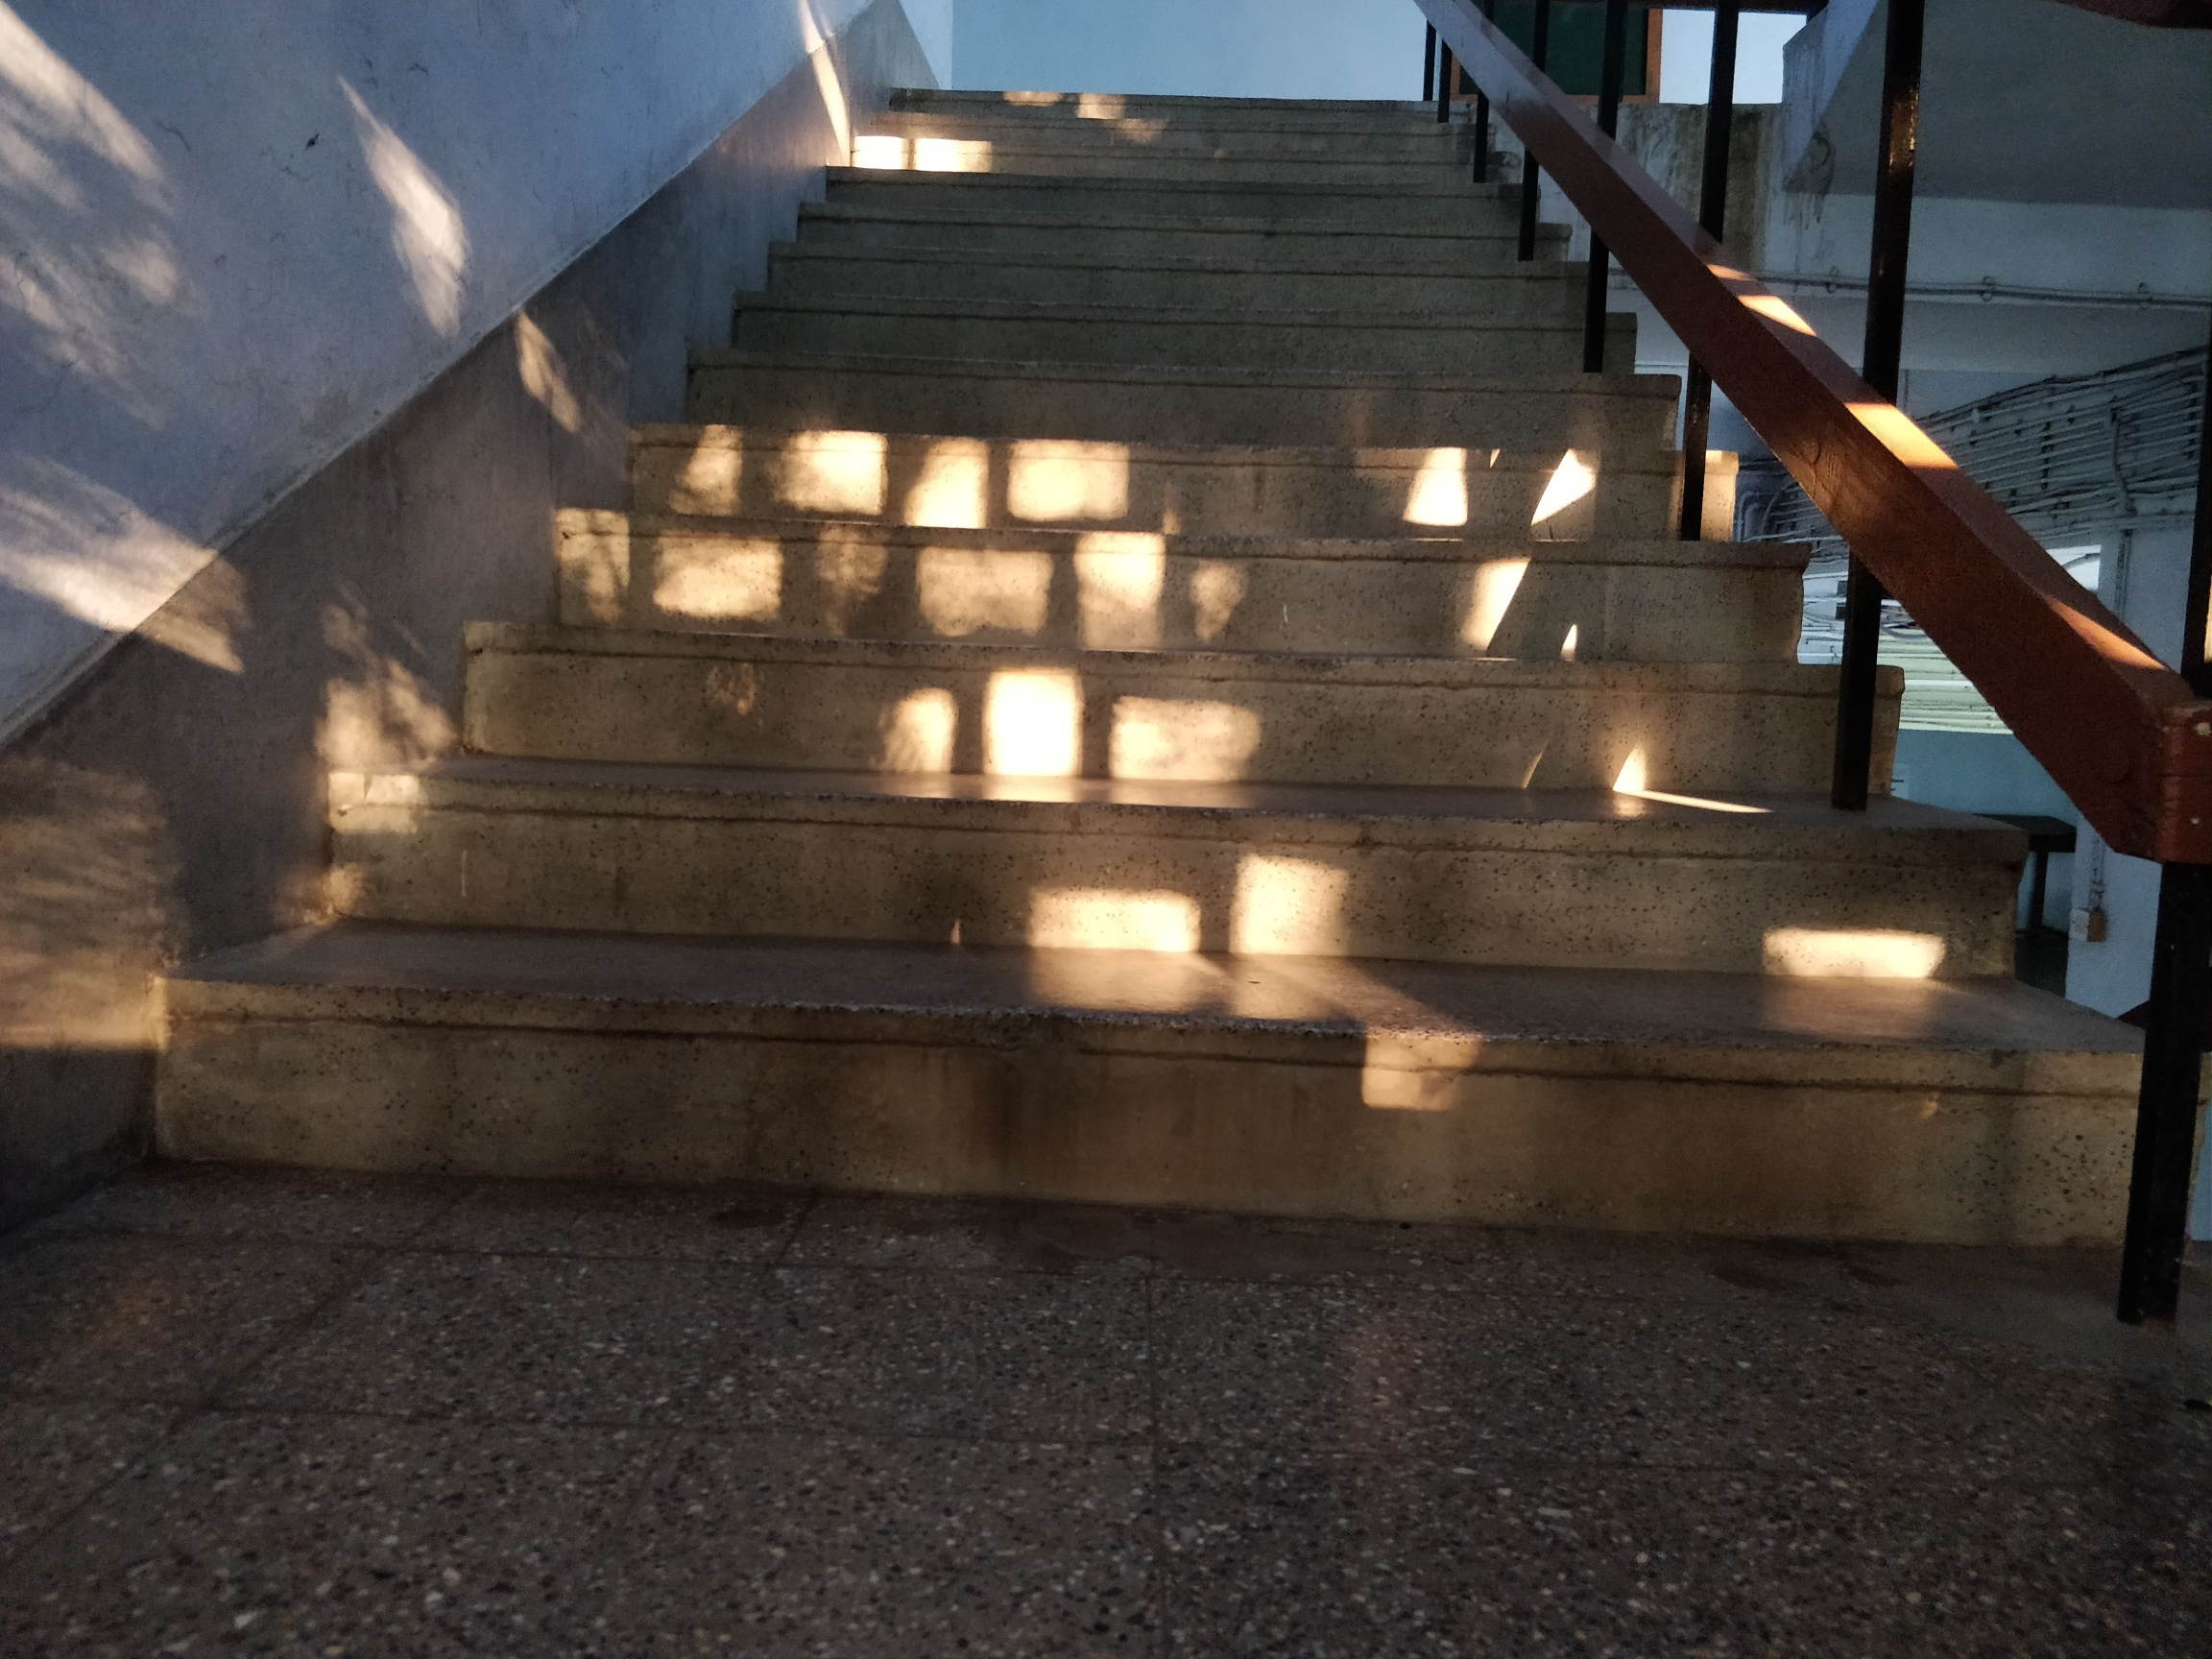stairs_up: (176, 59, 2172, 1288)
